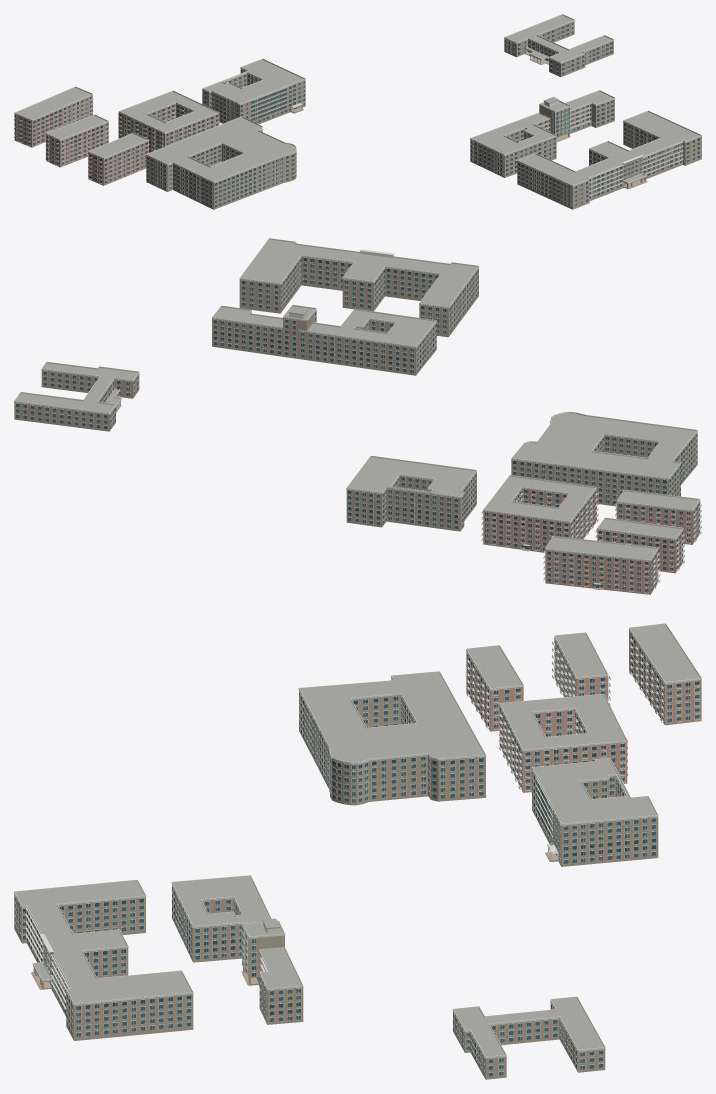
The model's file is chunk-p0-n1.glb.
The picture shows the model from 3 angles, top to bottom: view 1: azimuth 30°, elevation 25°; view 2: azimuth 150°, elevation 25°; view 3: azimuth 270°, elevation 25°; orthographic projection. The views are drawn at different scales.
Visible parts, largest first — view 1: chunk-p0-n1; view 2: chunk-p0-n1; view 3: chunk-p0-n1.
Boxes of the visible parts, x1=… form: chunk-p0-n1: x1=14, y1=14, x2=701, y2=209; chunk-p0-n1: x1=14, y1=238, x2=701, y2=594; chunk-p0-n1: x1=14, y1=623, x2=701, y2=1079.
Bounding box in the file's own units: 430 × 29.01 × 306.
7 materials, 2 textured.
